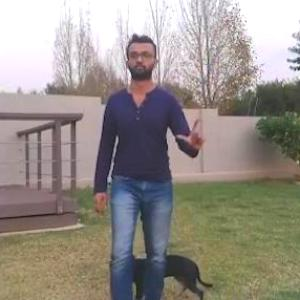land_hand: (174, 110, 211, 152)
